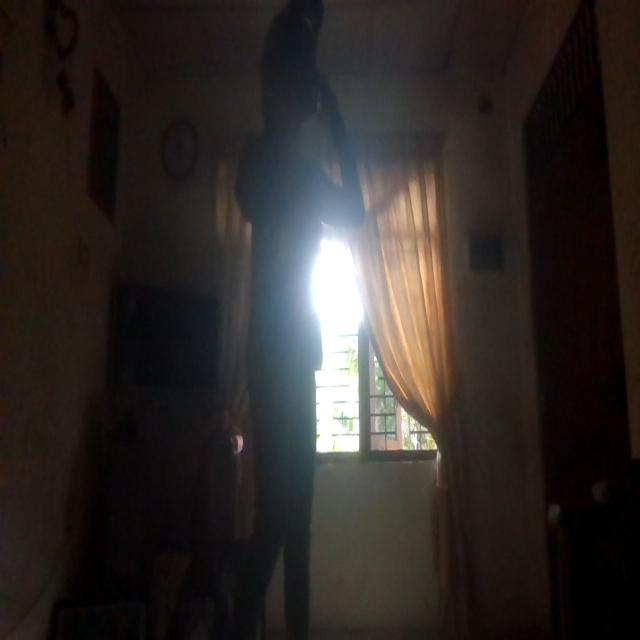Helmet_Wearer: (252, 11, 324, 137)
Person: (225, 4, 347, 640)
